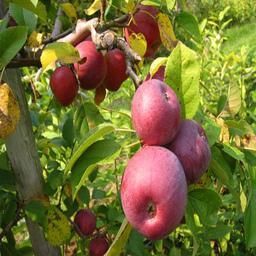apple: (119, 145, 187, 240), (159, 118, 210, 183), (129, 81, 180, 145), (124, 6, 165, 56), (70, 40, 105, 89), (99, 49, 129, 90), (49, 65, 78, 107)
